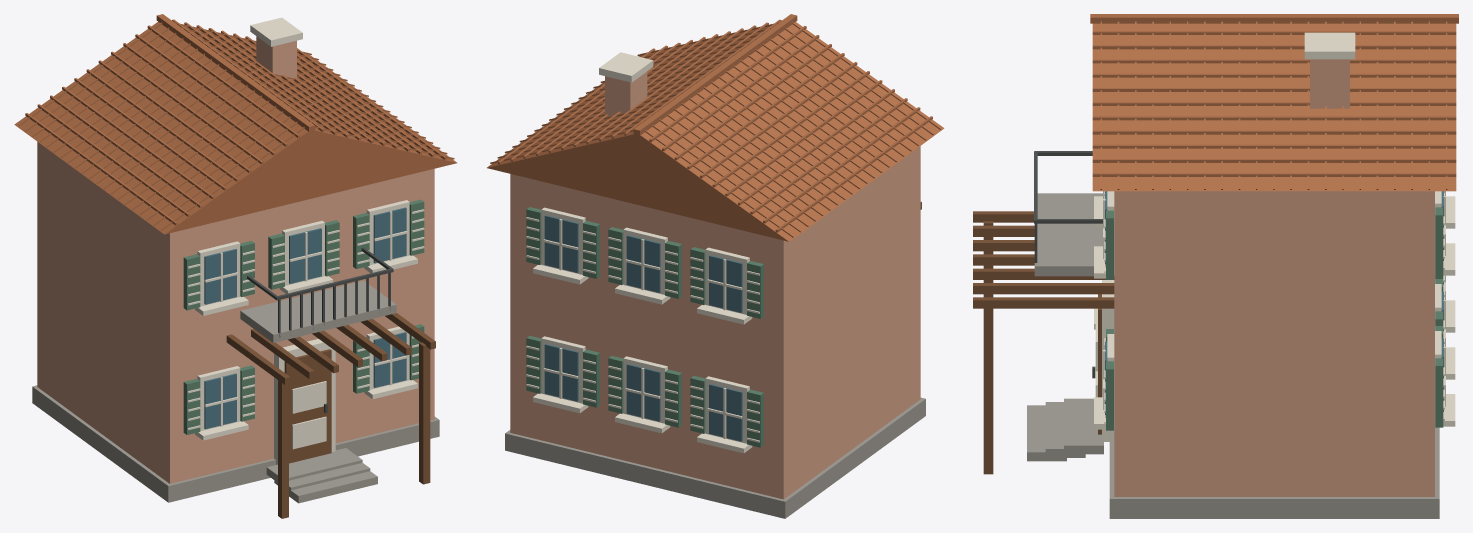
The model's file is villa-3.glb.
3 views of the same model, side by side, from view 1: azimuth 30°, elevation 25°; view 2: azimuth 150°, elevation 25°; view 3: azimuth 270°, elevation 25° (orthographic). The views are drawn at different scales.
Parts seen in each view (by area): view 1: villa-3; view 2: villa-3; view 3: villa-3.
Part boxes in pixels (left/top/right/bottom): villa-3: left=14, top=14, right=456, bottom=518; villa-3: left=487, top=14, right=944, bottom=518; villa-3: left=973, top=14, right=1458, bottom=518.
Size of the model in its own units: 6.66 by 7.77 by 7.88.
